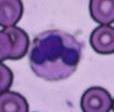N: (29, 29, 84, 80)
